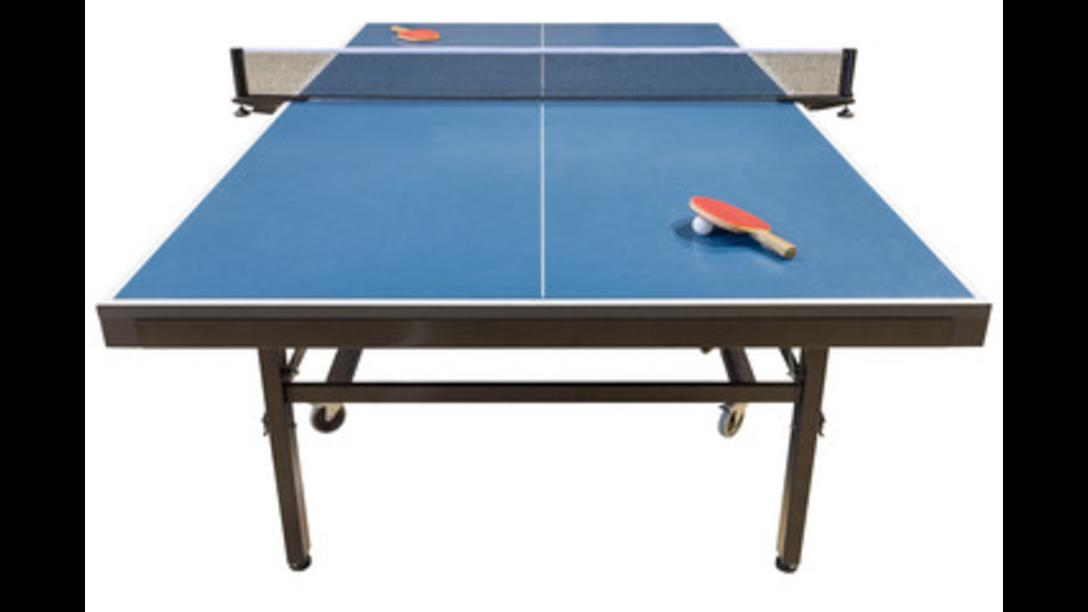Table-Tennis-Ball: (693, 215, 712, 232)
